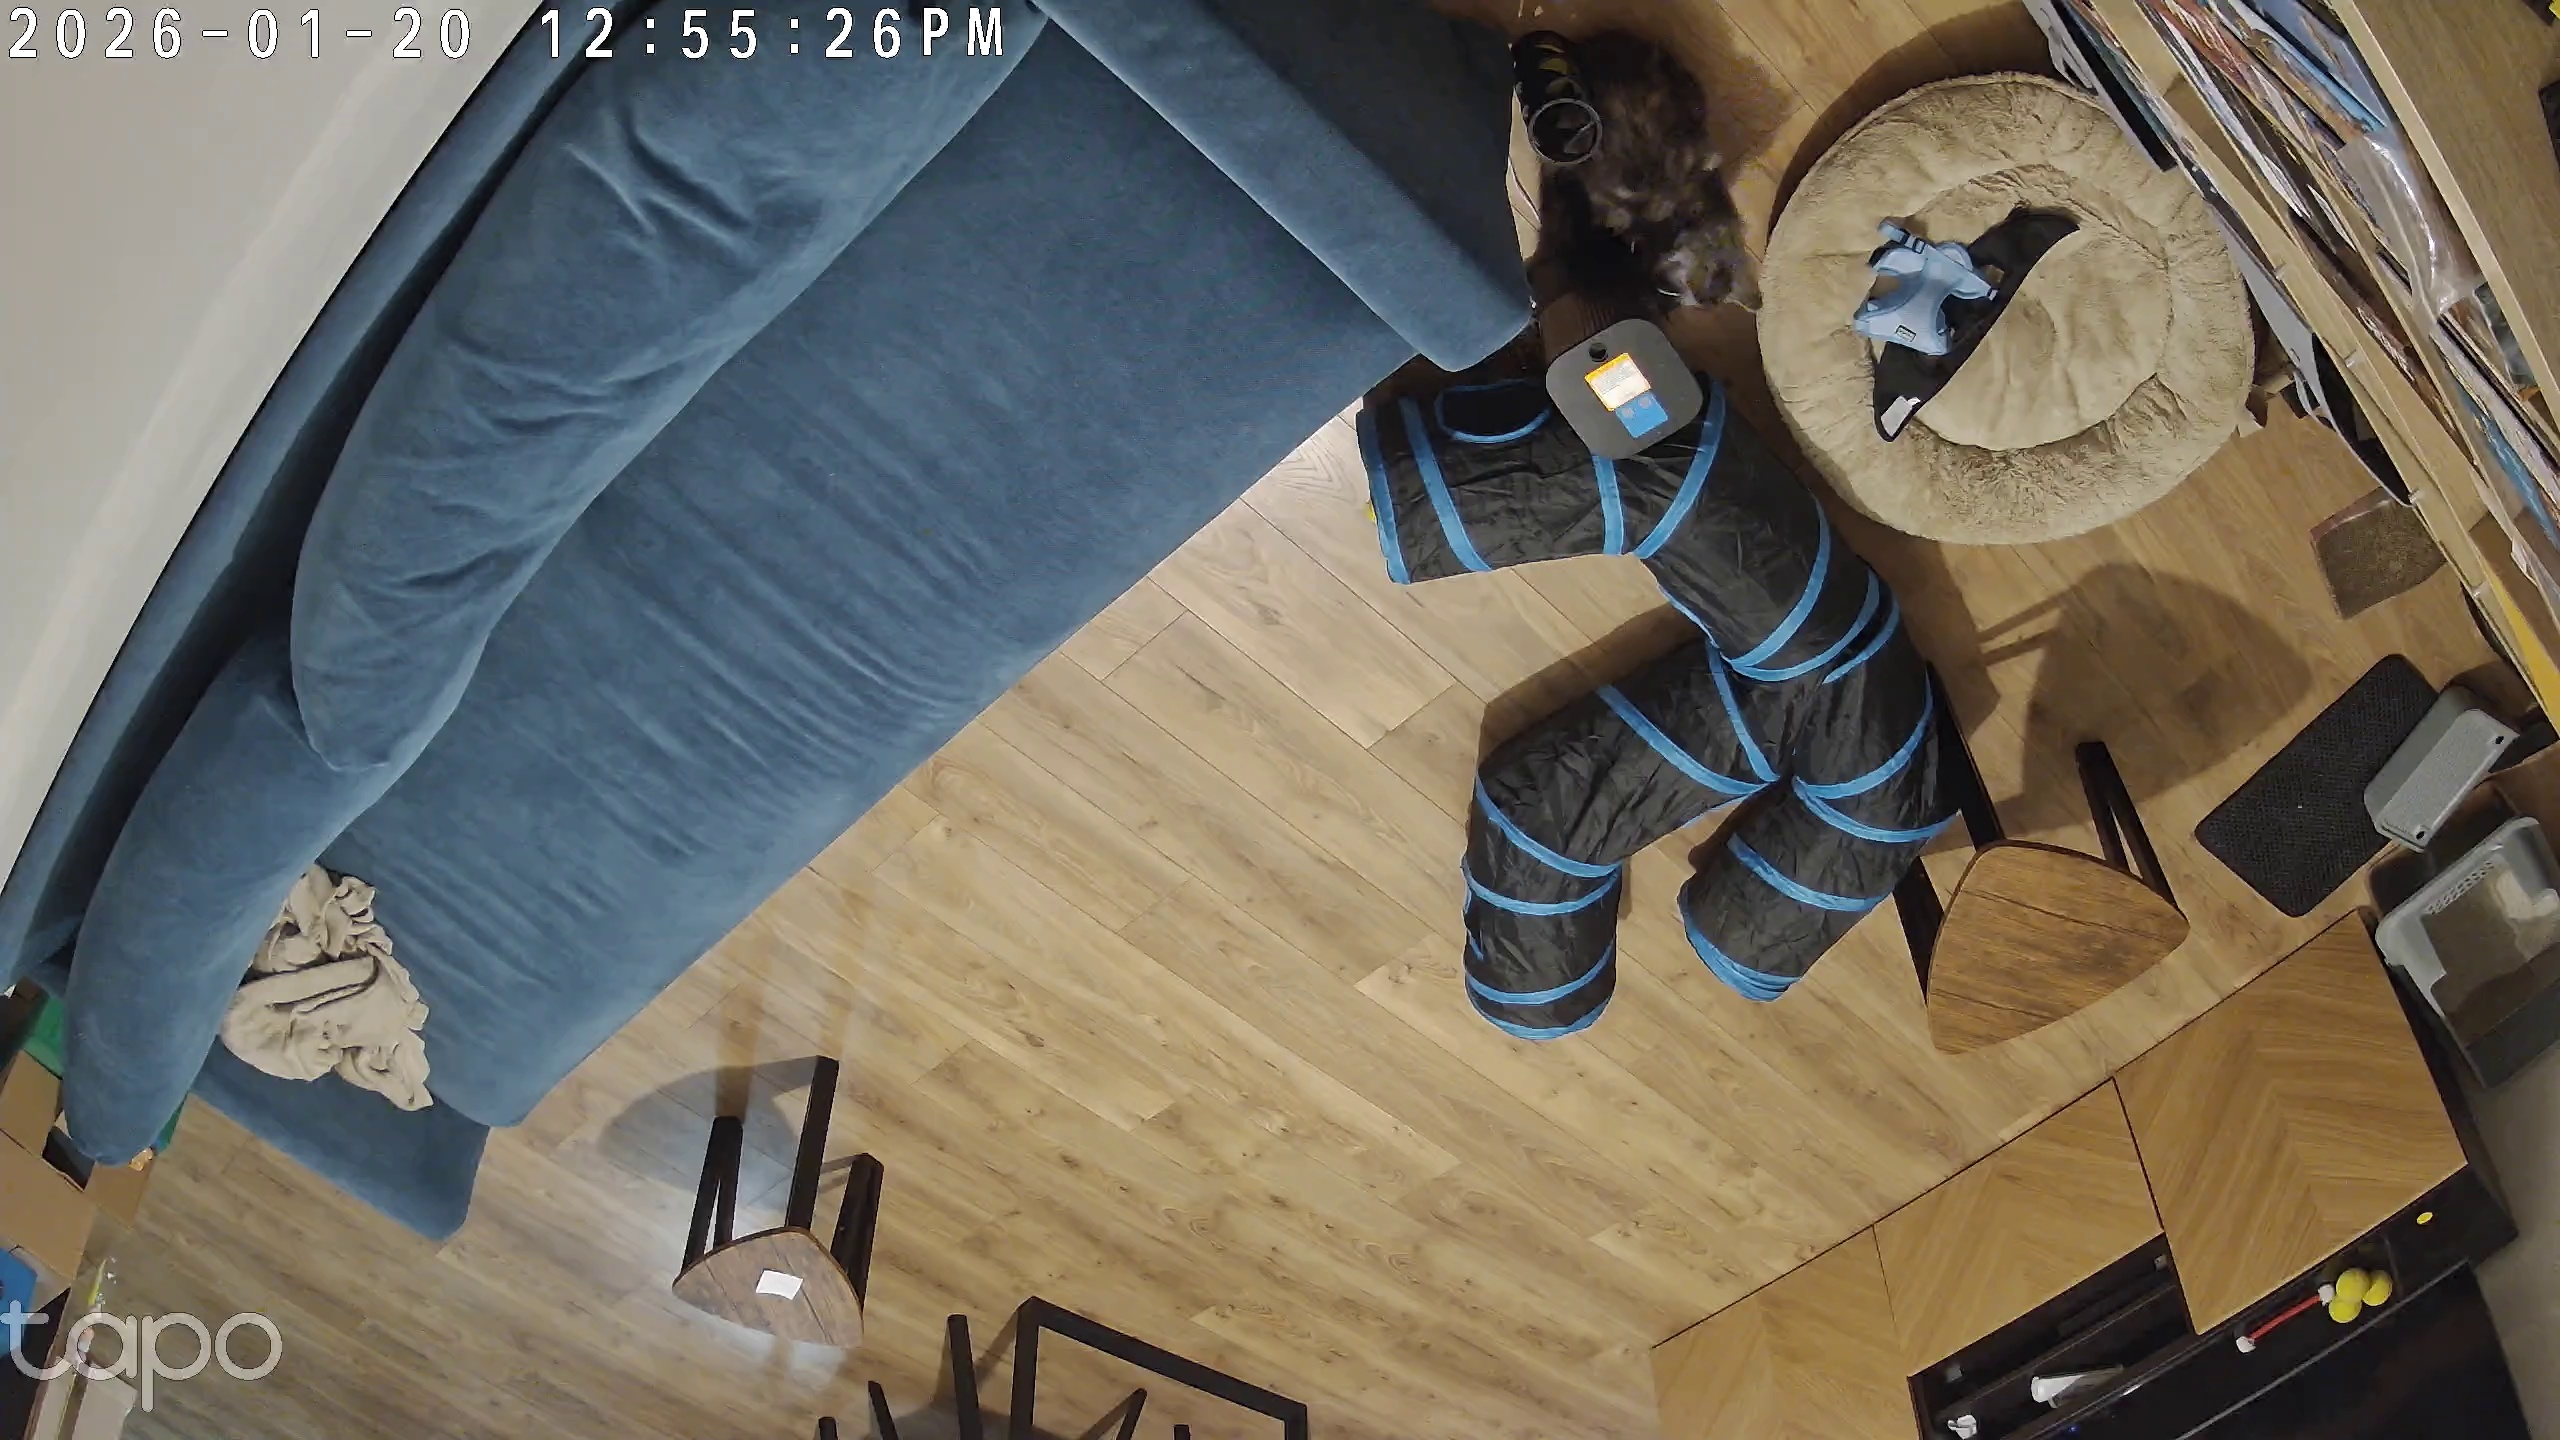Nala: (1503, 25, 1765, 320)
